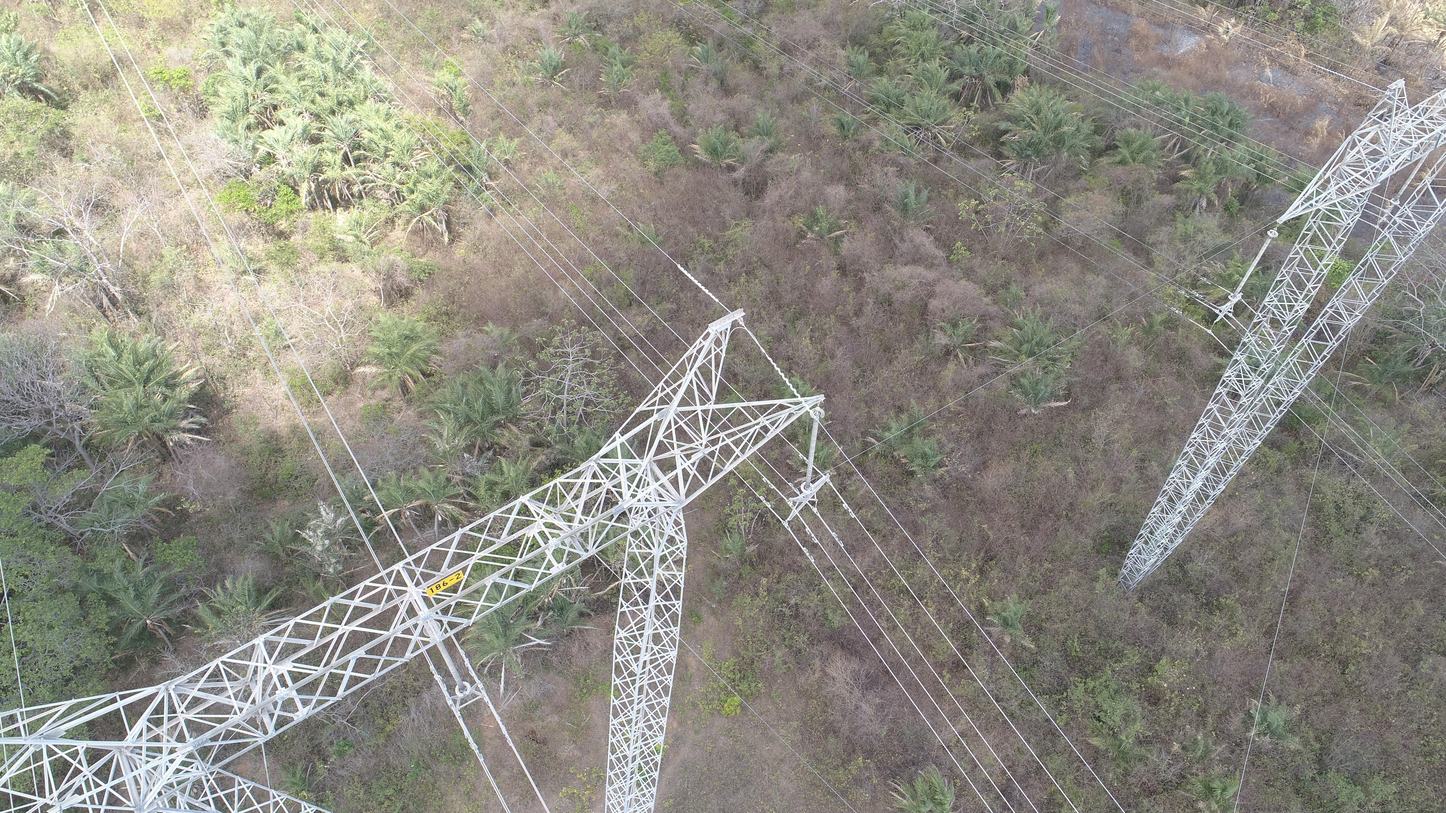power_tower: (0, 304, 834, 811), (1114, 77, 1407, 589)
